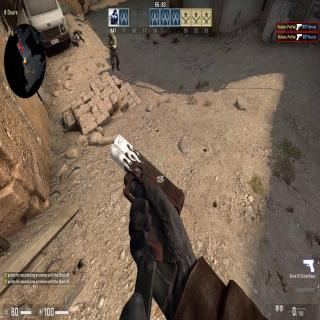CT-Body: (107, 29, 118, 67)
CT-Head: (108, 30, 113, 38)
